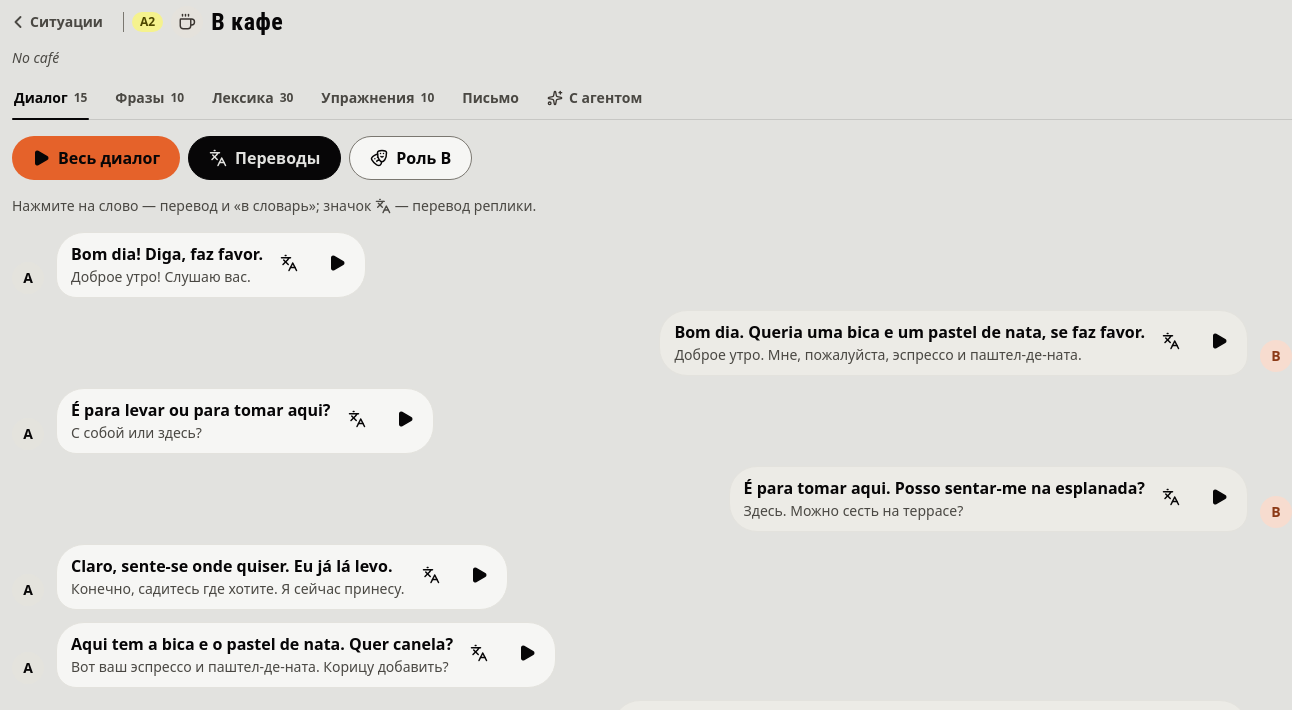
Dialogue › play one line with the speaker’s voice; the same button stops it
This screenshot has width=1292, height=710.
What coordinates should you click on to do the following:
click the button named "Прослушать реплику 2"
I would click on:
 (1219, 341)
Its box is left=1197, top=319, right=1241, bottom=363.
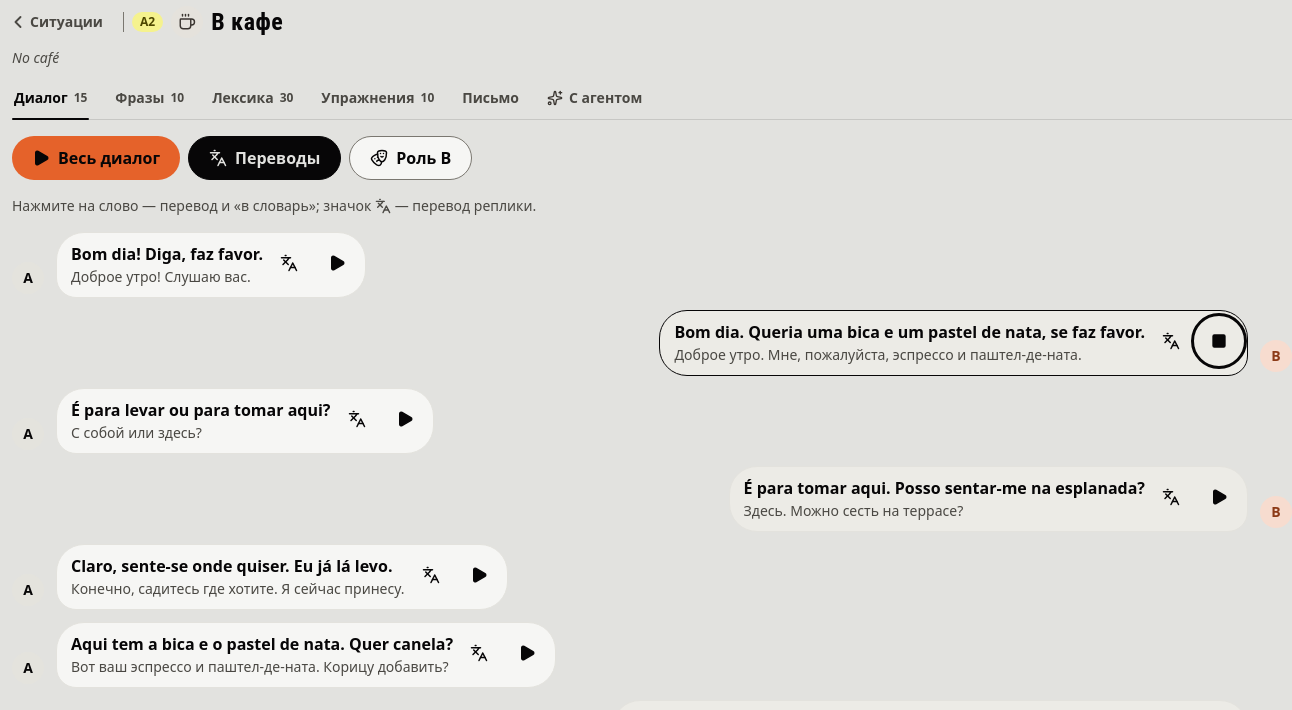
What coordinates should you click on to do the following:
click the button named "Остановить"
I would click on:
 (1219, 341)
Its box is left=1197, top=319, right=1241, bottom=363.
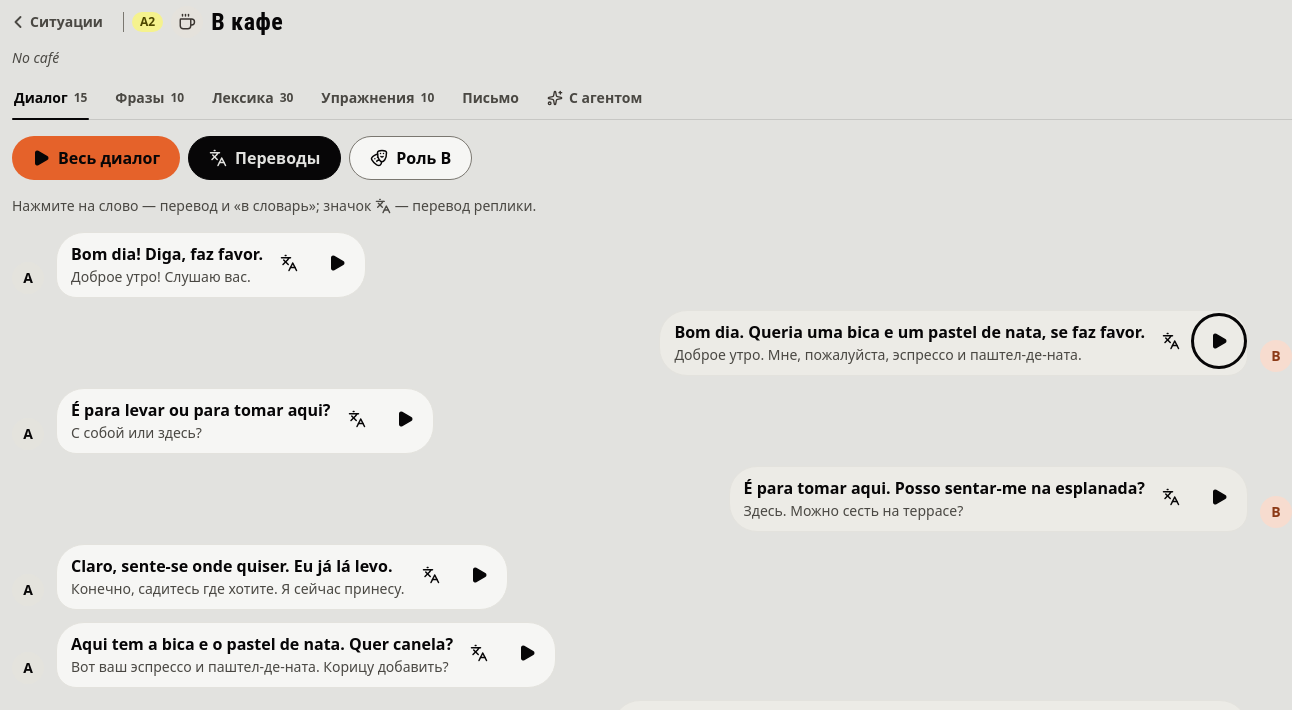
Result: the button named "Прослушать реплику 2" is shown at left=1197, top=319, right=1241, bottom=363
